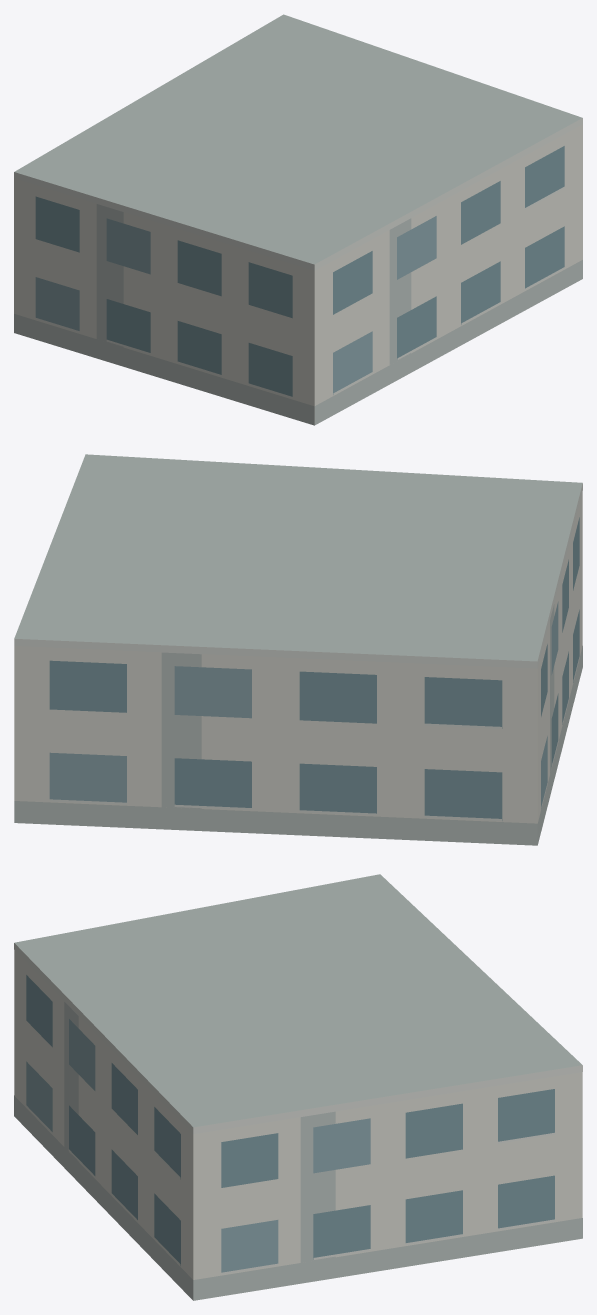
The model's file is survey-upis-32865859.glb.
3 renders of one model, top to bottom at view 1: azimuth 30°, elevation 25°; view 2: azimuth 150°, elevation 25°; view 3: azimuth 270°, elevation 25°, orthographic. The views are drawn at different scales.
Parts seen in each view (by area): view 1: survey-upis-32865859.tmp; view 2: survey-upis-32865859.tmp; view 3: survey-upis-32865859.tmp.
Boxes of the visible parts, x1,y1,x2,y2 form: survey-upis-32865859.tmp: (14,14,582,425); survey-upis-32865859.tmp: (14,454,582,845); survey-upis-32865859.tmp: (14,874,582,1300).
Size of the model in its own units: 19.12 by 6.1 by 18.14.
